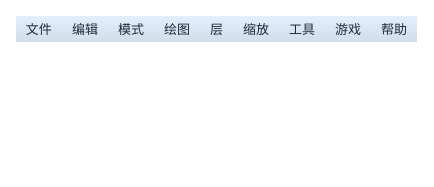
Test: Menu 层菜单:备注编辑/新增/删除 › 编辑选中时前面显示 * 而不是 ✓,普通复选项仍为 ✓
Click the button with class "menu-dropdown-title" showing "层".
click(216, 29)  # box [200,16,233,42]
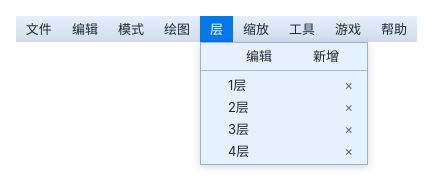
Click the menu item with class "menu-entry" showing "编辑".
click(259, 56)  # box [246,48,272,64]
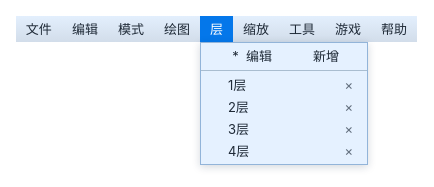
Now the text with class "menu-entry-check" reads "*", box [232,48,239,64]
# 对照组:模式菜单的复选项选中后仍打 ✓
Click the button with class "menu-dropdown-title" showing "模式".
click(131, 29)  # box [108,16,154,42]
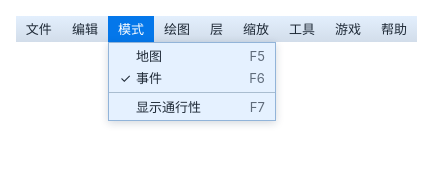
Click the menu item with class "menu-entry" showing "显示通行性 F7".
click(200, 106)  # box [136,98,265,114]
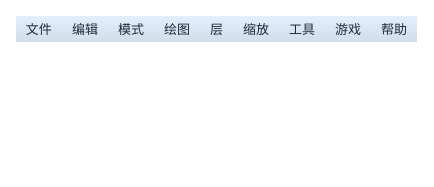
Click the button with class "menu-dropdown-title" showing "模式".
click(131, 29)  # box [108,16,154,42]
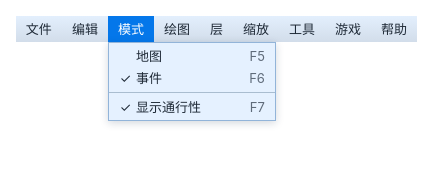
Now the text with class "menu-entry-check" next to "显示通行性" reads "✓", box [120,98,131,114]
